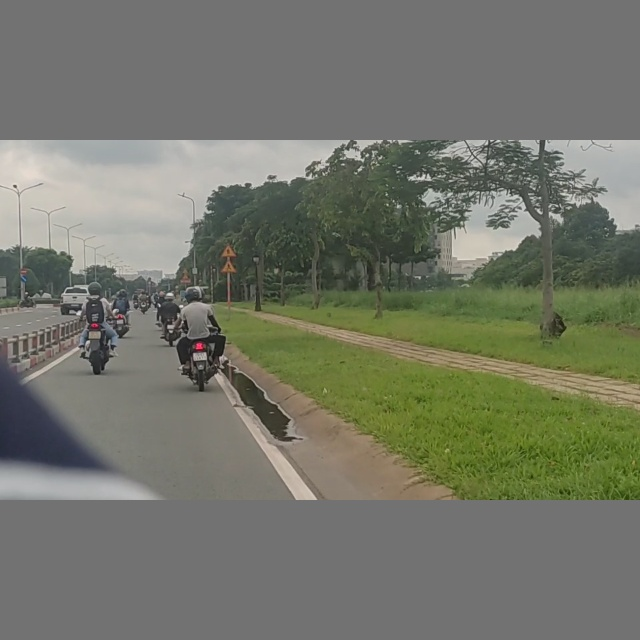P.102: (20, 268, 27, 275)
R.302a: (20, 276, 28, 283)
W.207: (220, 244, 237, 257)
W.224: (220, 259, 237, 273)
